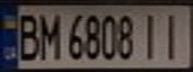0: (100, 11, 118, 62)
6: (63, 9, 84, 61)
8: (115, 11, 139, 61), (81, 10, 103, 61)
B: (12, 9, 42, 61)
I: (157, 9, 190, 61), (139, 9, 163, 61)
M: (36, 9, 63, 62)
